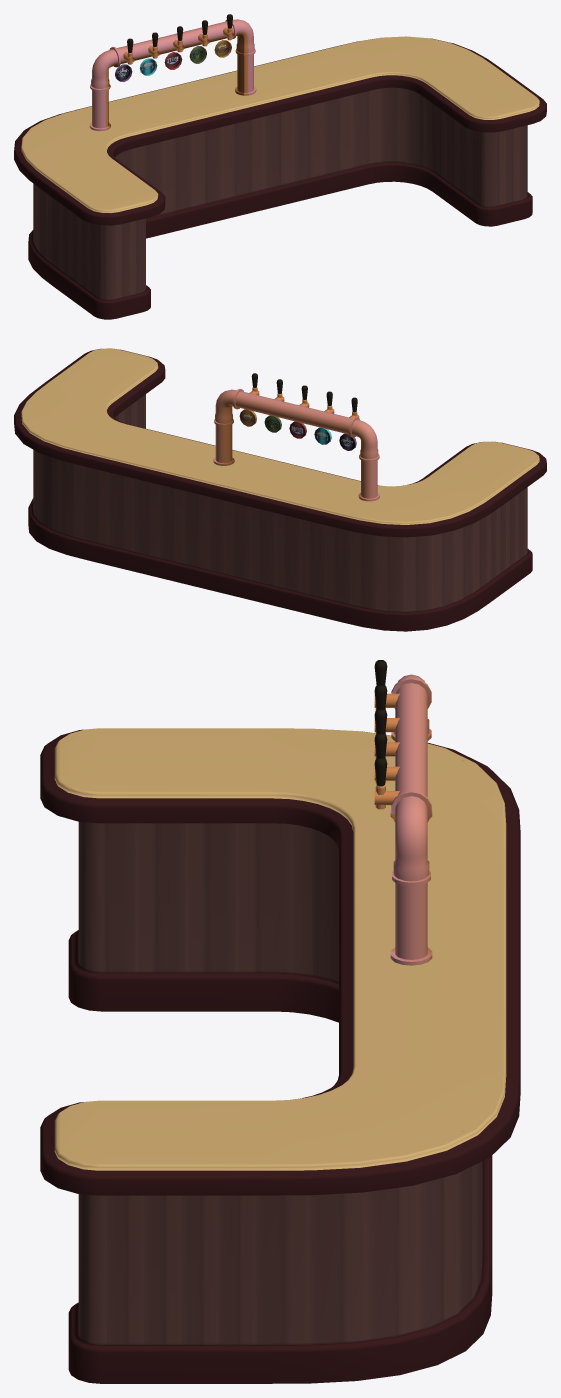
Rendered from bar2.fbx.
The picture shows the model from 3 angles, top to bottom: view 1: azimuth 30°, elevation 25°; view 2: azimuth 150°, elevation 25°; view 3: azimuth 270°, elevation 25°; orthographic projection. The views are drawn at different scales.
Parts seen in each view (by area): view 1: polySurface47, polySurface49; view 2: polySurface47, polySurface49; view 3: polySurface47, polySurface49.
Boxes of the visible parts, <box> form: polySurface47: <box>14,36,546,319</box>; polySurface49: <box>89,14,256,131</box>; polySurface47: <box>14,348,546,631</box>; polySurface49: <box>213,373,379,501</box>; polySurface47: <box>40,728,520,1383</box>; polySurface49: <box>374,660,432,965</box>.
Bounding box in the file's own units: 3.05 × 1.26 × 1.38.
